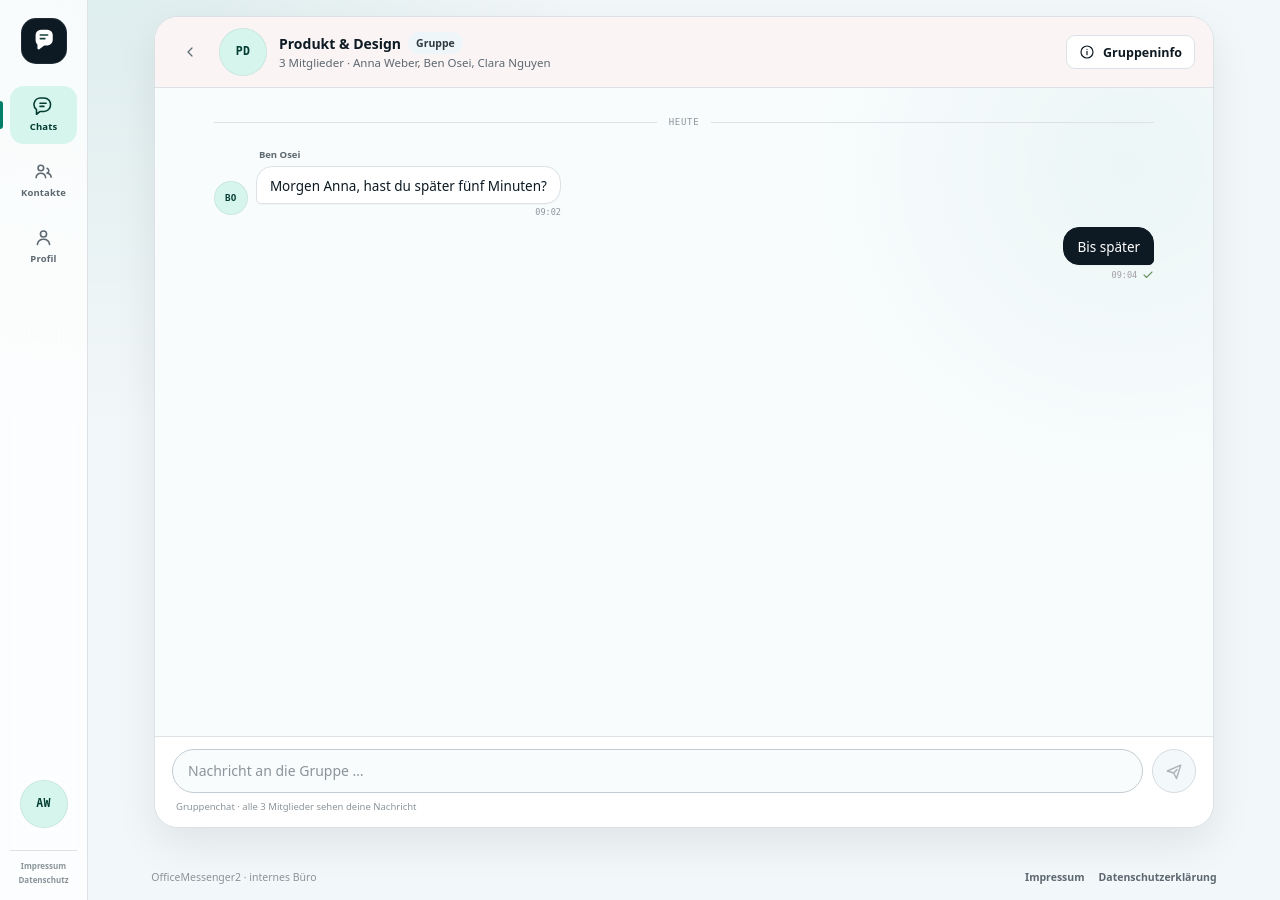
it: ChatPage › appends a sent message optimistically
This screenshot has width=1280, height=900.
Expected: the text "Morgen Anna, hast du später fünf Minuten?" is shown, x1=256 y1=166 x2=561 y2=204
Expected: the button named "Nachricht senden" is disabled, x1=1152 y1=749 x2=1196 y2=793
Type "Hallo Team" into the field with placeholder "Nachricht an die Gruppe …" at (658, 771), box x1=172 y1=749 x2=1143 y2=793
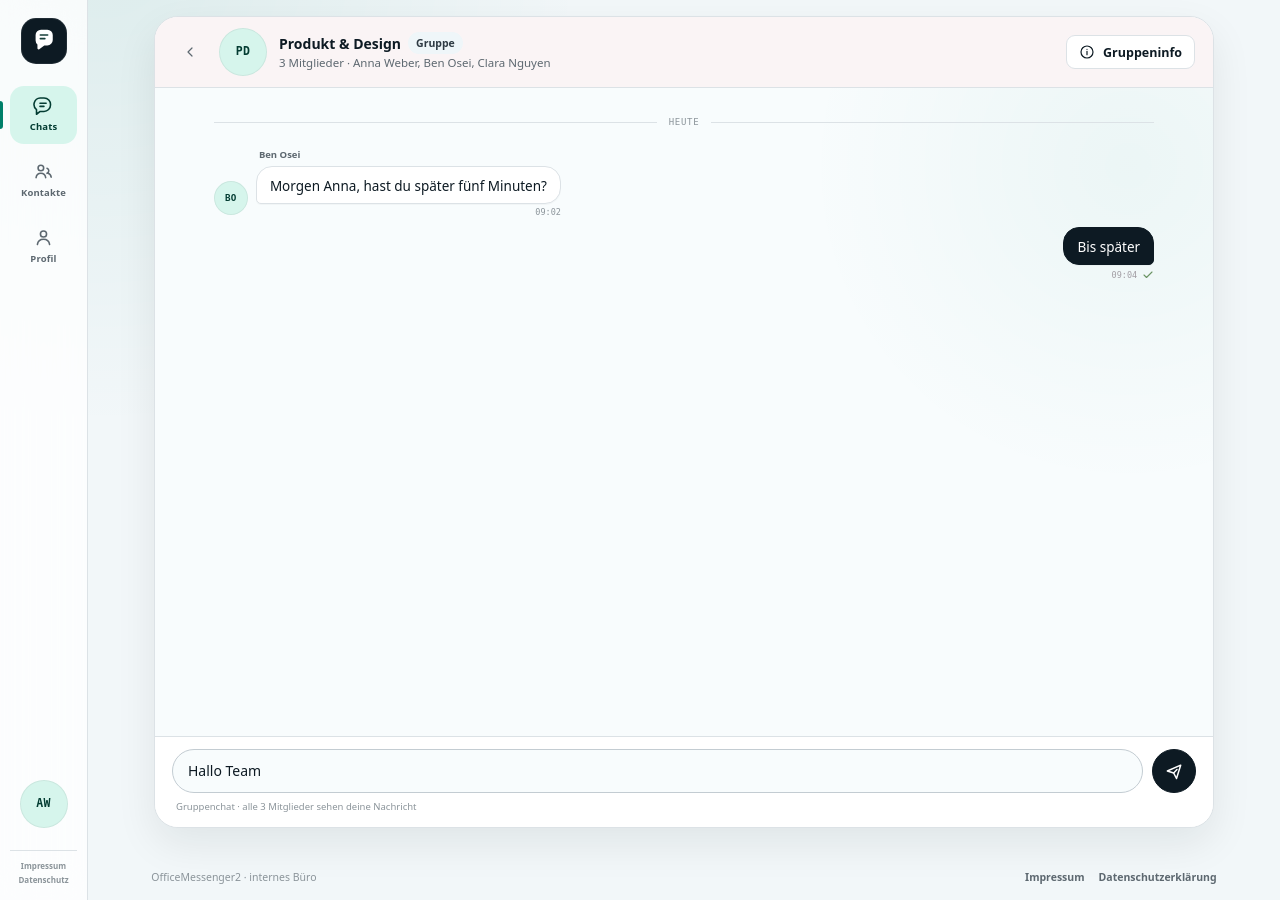
Result: the button named "Nachricht senden" is enabled
Click the button named "Nachricht senden" at (1174, 771), box x1=1152 y1=749 x2=1196 y2=793
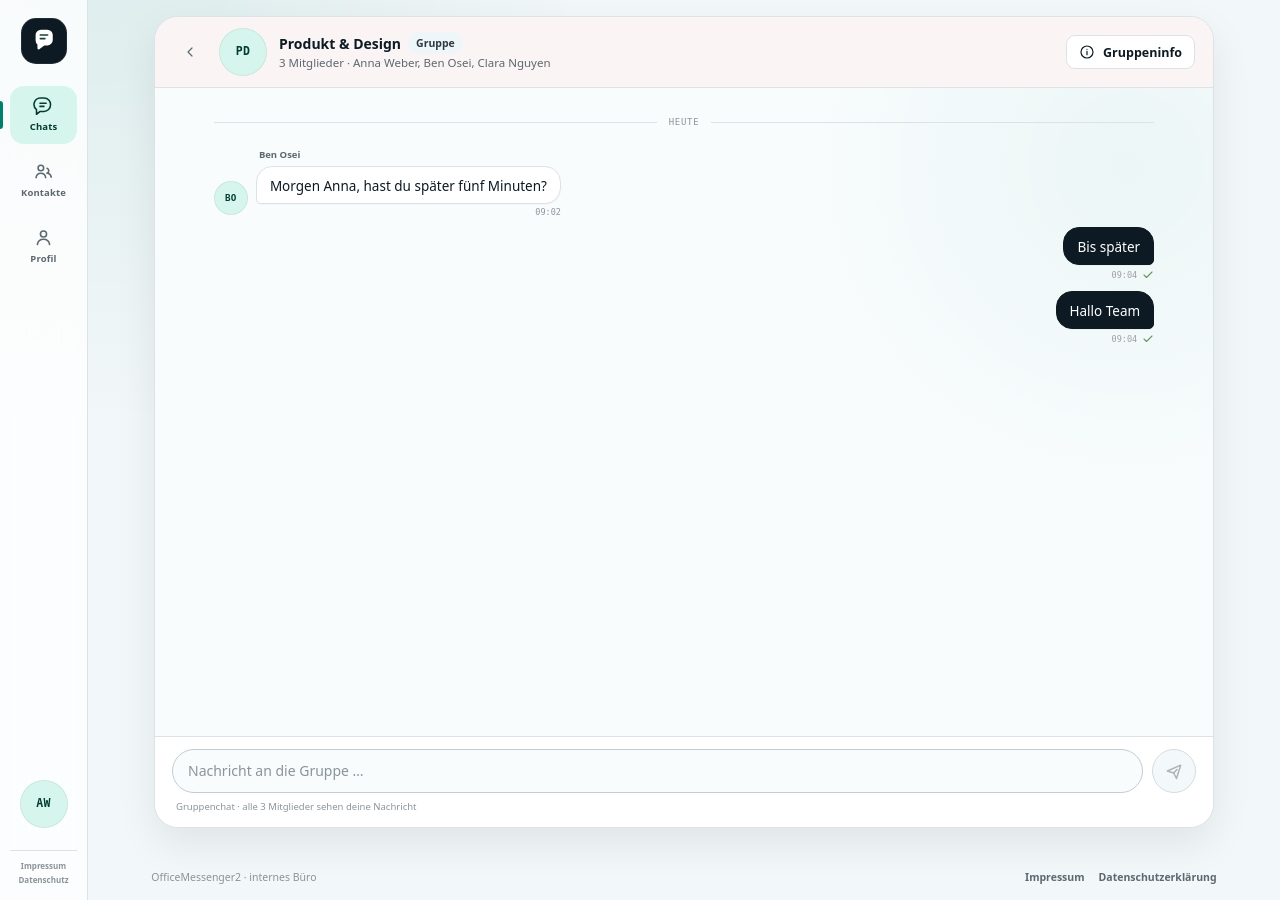
Result: the text "Hallo Team" is shown at x1=1056 y1=291 x2=1154 y2=329
